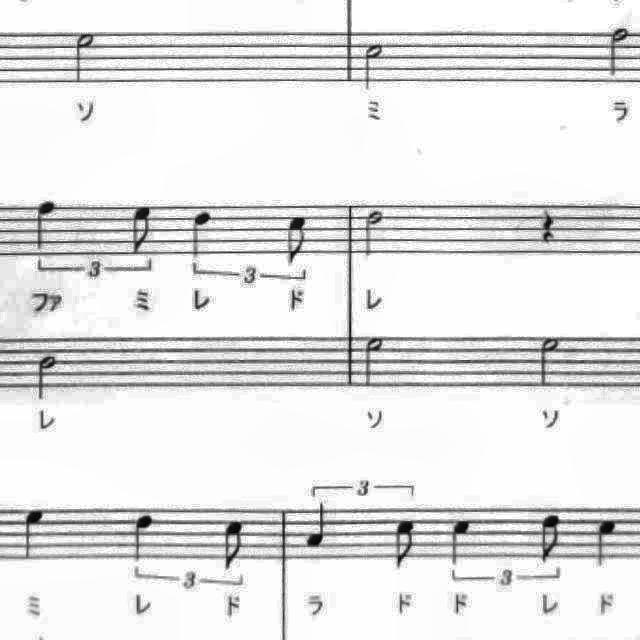Eighth-note: (279, 210, 315, 270), (532, 508, 568, 568), (386, 514, 420, 576), (216, 514, 250, 574), (126, 201, 160, 259)
Half-note: (598, 19, 638, 82), (532, 330, 568, 392), (67, 26, 101, 90), (356, 331, 390, 394), (358, 37, 392, 97), (358, 205, 389, 263), (32, 351, 62, 405)
Quarter-note: (17, 501, 55, 565), (125, 505, 163, 567), (588, 511, 624, 574), (183, 206, 221, 264), (444, 512, 480, 572), (27, 194, 63, 253), (300, 498, 336, 554)
Quarter-rest: (533, 202, 563, 248)
